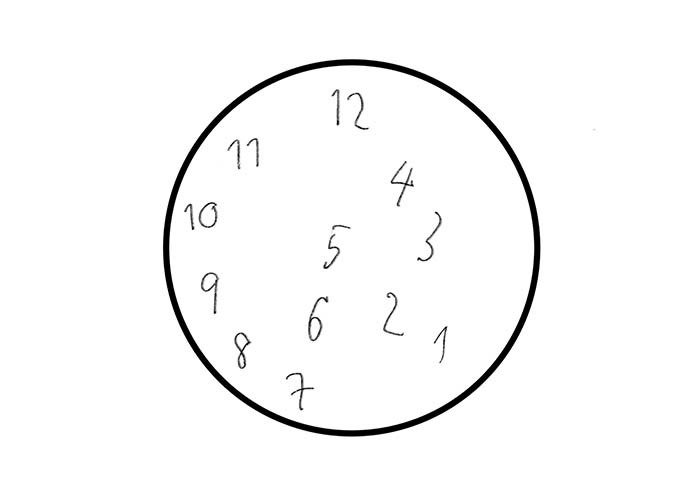eight: (227, 328, 255, 371)
eleven: (222, 138, 267, 171)
five: (320, 218, 353, 275)
four: (384, 150, 425, 214)
nine: (196, 270, 221, 316)
one: (430, 320, 451, 364)
seven: (284, 370, 316, 412)
six: (302, 295, 333, 344)
ten: (183, 201, 222, 233)
three: (412, 210, 443, 264)
twelve: (323, 85, 375, 133)
two: (375, 287, 407, 339)
